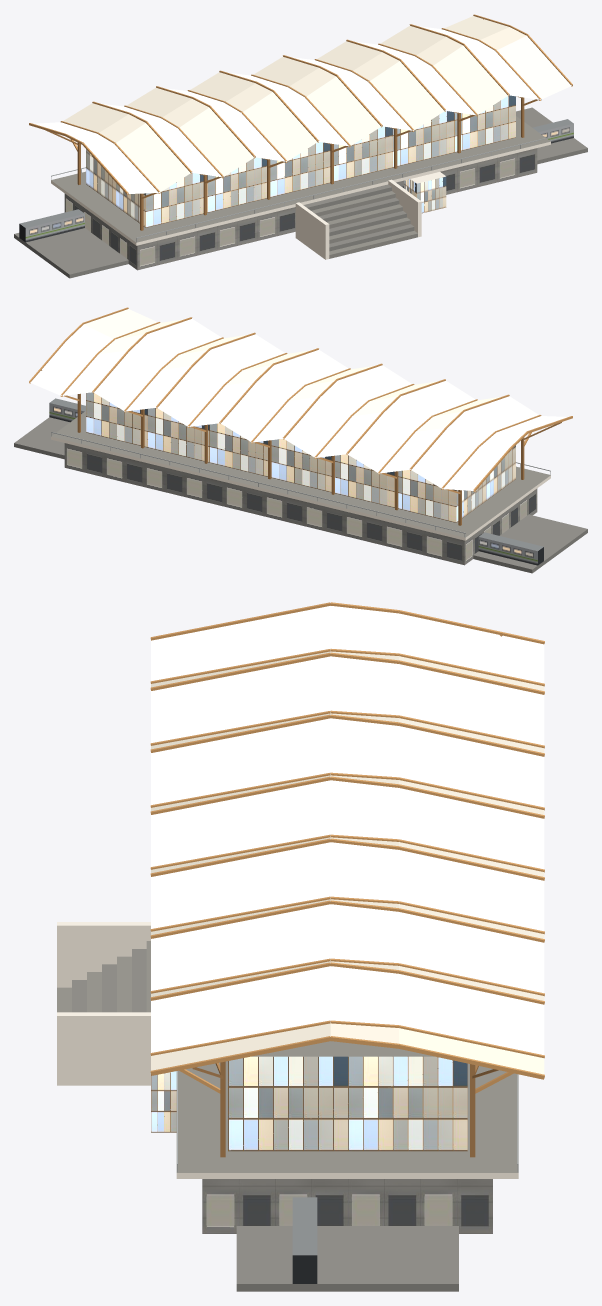
Rendered from takanawa_gateway_station.glb.
3 views of the same model, one above another, from view 1: azimuth 30°, elevation 25°; view 2: azimuth 150°, elevation 25°; view 3: azimuth 270°, elevation 25° (orthographic). The views are drawn at different scales.
Visible parts, largest first — view 1: takanawa_gateway_station; view 2: takanawa_gateway_station; view 3: takanawa_gateway_station.
Part boxes in pixels (left/top/right/bottom): takanawa_gateway_station: left=14, top=14, right=587, bottom=278; takanawa_gateway_station: left=14, top=307, right=587, bottom=573; takanawa_gateway_station: left=57, top=602, right=544, bottom=1291.
Size of the model in its own units: 140 by 29.75 by 57.06.
2 materials, 2 textured.
